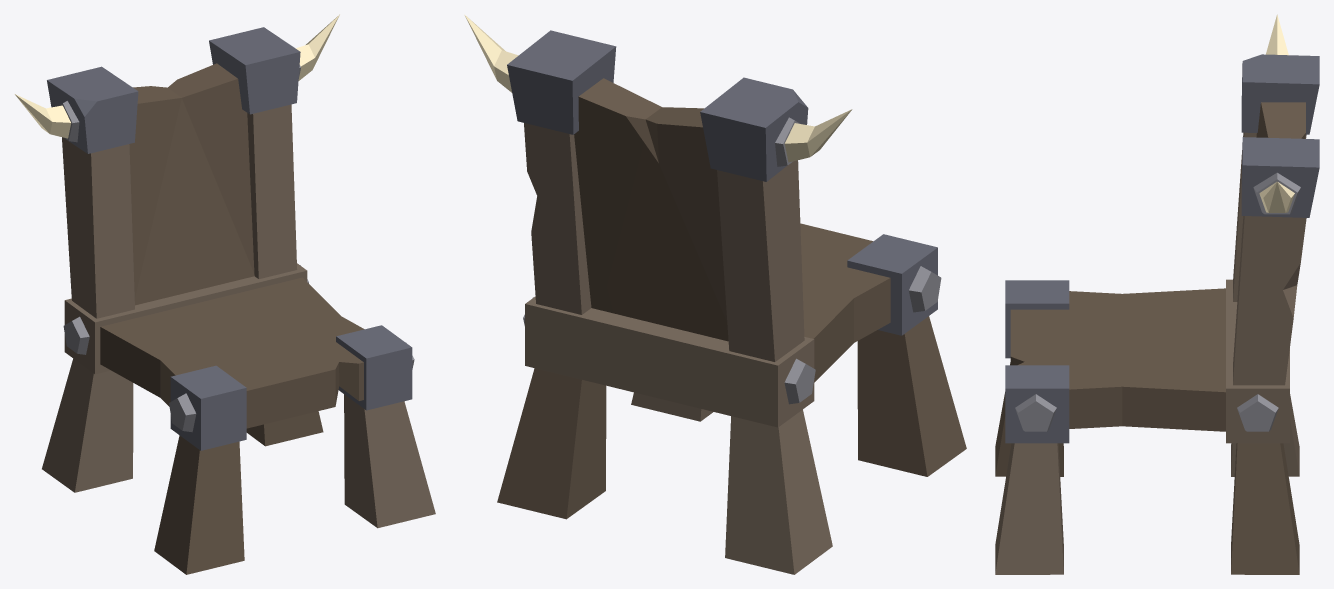
File: _chair1.fbx
The picture shows the model from 3 angles, left to right: view 1: azimuth 30°, elevation 25°; view 2: azimuth 150°, elevation 25°; view 3: azimuth 270°, elevation 25°; orthographic projection. The views are drawn at different scales.
Visible parts, largest first — view 1: chair1; view 2: chair1; view 3: chair1.
Boxes of the visible parts, box(x1,y1,x2,y2) form: chair1: box(14, 14, 435, 574); chair1: box(464, 14, 966, 574); chair1: box(995, 14, 1319, 574).
Size of the model in its own units: 125 by 143 by 102.
